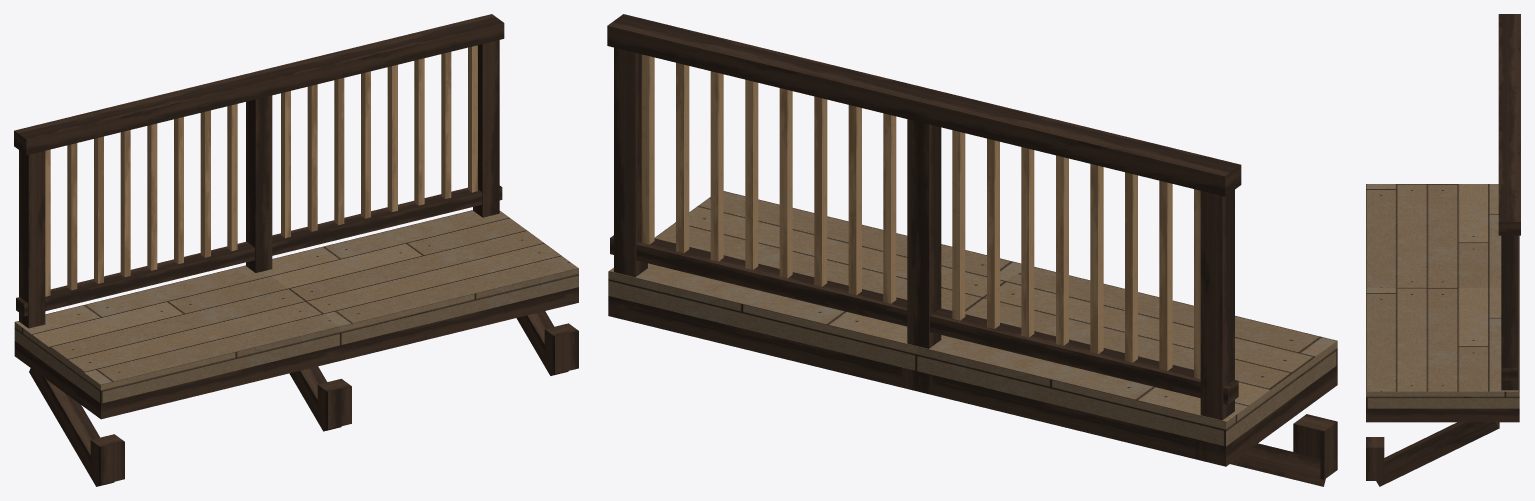
The model's file is HO_Wall_Balcony_8.fbx.
3 renders of one model, left to right at view 1: azimuth 30°, elevation 25°; view 2: azimuth 150°, elevation 25°; view 3: azimuth 270°, elevation 25°, orthographic. The views are drawn at different scales.
Parts seen in each view (by area): view 1: HO_Wall_Balcony_8; view 2: HO_Wall_Balcony_8; view 3: HO_Wall_Balcony_8.
Boxes of the visible parts, x1,y1,x2,y2 form: HO_Wall_Balcony_8: [14, 14, 578, 486]; HO_Wall_Balcony_8: [607, 14, 1337, 486]; HO_Wall_Balcony_8: [1366, 14, 1520, 486].
Bounding box in the file's own units: 8 × 4.78 × 2.52.
